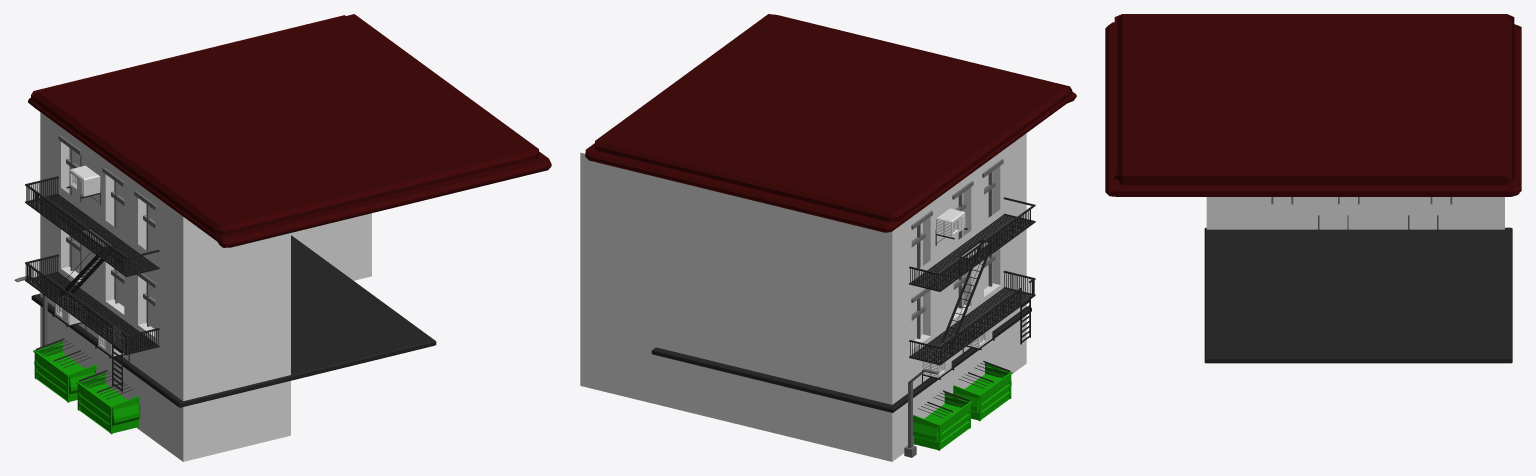
File: Alleyway Scene (colorrrr).fbx
3 views of the same model, side by side, from view 1: azimuth 30°, elevation 25°; view 2: azimuth 150°, elevation 25°; view 3: azimuth 270°, elevation 25° (orthographic). The views are drawn at different scales.
Parts seen in each view (by area): view 1: Cube.633, Plane.039, Cube.1089, Cube.622, Cube.1099, Cube.1090, Cube.1094, Cube.1114, Cube.1098, Cube.1119, Cube.1118, Cube.1115 (+2 smaller); view 2: Plane.039, Cube.633, Cube.622, Cube.1089, Cube.1090, Cube.1099, Cube.1094, Cube.1098, Cube.1114, Cube.1119, Cube.1118, Cube.1115 (+3 smaller); view 3: Cube.633, Cube.1089, Plane.039, Cube.622.
Boxes of the visible parts, x1=… form: Cube.633: x1=31, y1=14, x2=538, y2=235; Plane.039: x1=40, y1=112, x2=371, y2=461; Cube.1089: x1=31, y1=235, x2=436, y2=407; Cube.622: x1=28, y1=98, x2=551, y2=247; Cube.1099: x1=76, y1=370, x2=140, y2=434; Cube.1090: x1=33, y1=338, x2=96, y2=402; Cube.1094: x1=26, y1=186, x2=122, y2=271; Cube.1114: x1=48, y1=194, x2=157, y2=269; Cube.1098: x1=27, y1=265, x2=112, y2=341; Cube.1119: x1=48, y1=273, x2=157, y2=347; Cube.1118: x1=29, y1=278, x2=135, y2=352; Cube.1115: x1=29, y1=200, x2=135, y2=274; Plane.039: x1=580, y1=133, x2=1026, y2=461; Cube.633: x1=595, y1=14, x2=1072, y2=221; Cube.622: x1=585, y1=92, x2=1076, y2=232; Cube.1089: x1=651, y1=306, x2=1031, y2=412; Cube.1090: x1=913, y1=390, x2=972, y2=450; Cube.1099: x1=953, y1=360, x2=1012, y2=421; Cube.1094: x1=940, y1=210, x2=1030, y2=290; Cube.1098: x1=941, y1=290, x2=1021, y2=362; Cube.1114: x1=910, y1=214, x2=1013, y2=285; Cube.1119: x1=911, y1=288, x2=1013, y2=358; Cube.1118: x1=932, y1=293, x2=1031, y2=363; Cube.1115: x1=932, y1=220, x2=1031, y2=289; Cube.633: x1=1114, y1=14, x2=1514, y2=185; Cube.1089: x1=1204, y1=227, x2=1512, y2=363; Plane.039: x1=1206, y1=197, x2=1504, y2=229; Cube.622: x1=1105, y1=22, x2=1521, y2=196.
Size of the model in its own units: 4450 by 3060 by 4163.
